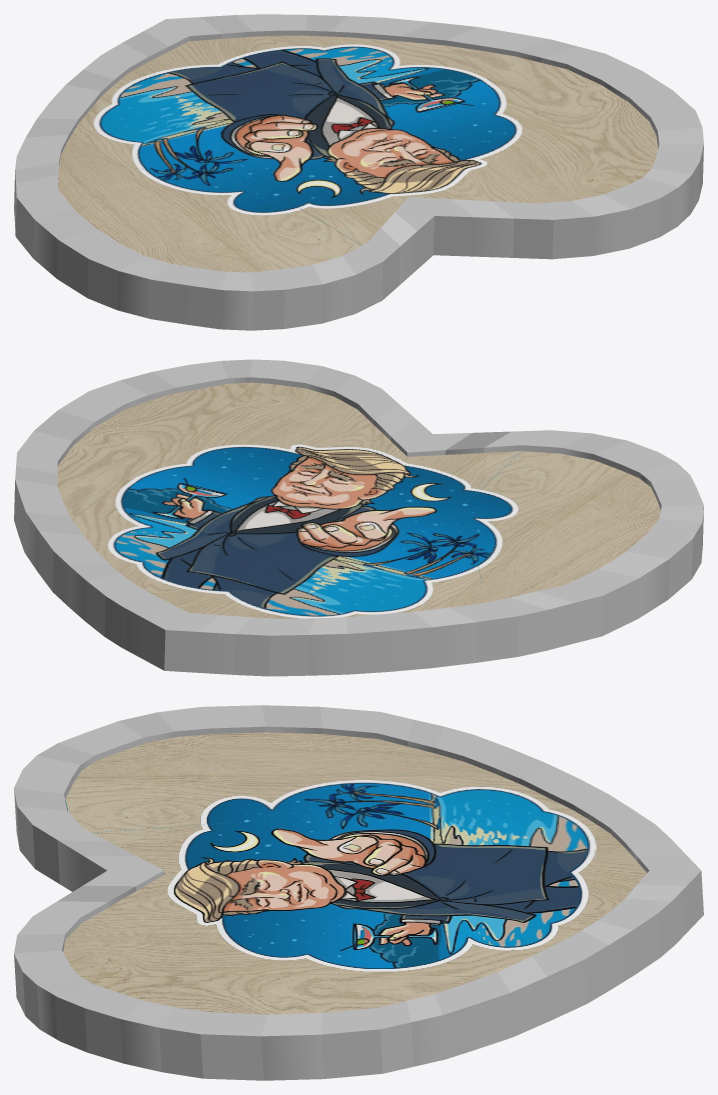
The model's file is Puzzle_42.FBX.
3 views of the same model, one above another, from view 1: azimuth 30°, elevation 25°; view 2: azimuth 150°, elevation 25°; view 3: azimuth 270°, elevation 25° (orthographic). The views are drawn at different scales.
Parts seen in each view (by area): view 1: Wood_1, 027, 025, 026, 024, 030, 029, 028, 031; view 2: Wood_1, 027, 025, 026, 024, 030, 029, 028, 031; view 3: Wood_1, 027, 025, 026, 024, 030, 029, 028, 031.
Boxes of the visible parts, bbox=[...] form: Wood_1: bbox=[14, 14, 703, 330]; 027: bbox=[275, 48, 569, 147]; 025: bbox=[107, 163, 361, 272]; 026: bbox=[463, 69, 657, 203]; 024: bbox=[58, 109, 276, 247]; 030: bbox=[91, 35, 282, 146]; 029: bbox=[275, 101, 406, 245]; 028: bbox=[360, 124, 526, 202]; 031: bbox=[279, 35, 487, 83]; Wood_1: bbox=[14, 359, 703, 676]; 027: bbox=[57, 429, 276, 572]; 025: bbox=[463, 451, 660, 583]; 026: bbox=[57, 382, 357, 475]; 024: bbox=[368, 505, 642, 614]; 030: bbox=[137, 528, 377, 618]; 029: bbox=[275, 451, 521, 551]; 028: bbox=[276, 410, 406, 505]; 031: bbox=[64, 493, 189, 584]; Wood_1: bbox=[14, 705, 703, 1080]; 027: bbox=[222, 872, 548, 1009]; 025: bbox=[65, 734, 413, 832]; 026: bbox=[63, 922, 362, 1014]; 024: bbox=[214, 732, 548, 846]; 030: bbox=[355, 798, 646, 914]; 029: bbox=[93, 821, 456, 896]; 028: bbox=[82, 872, 353, 922]; 031: bbox=[416, 898, 604, 987].
Bounding box in the file's own units: 4.23 × 0.272 × 3.72.
